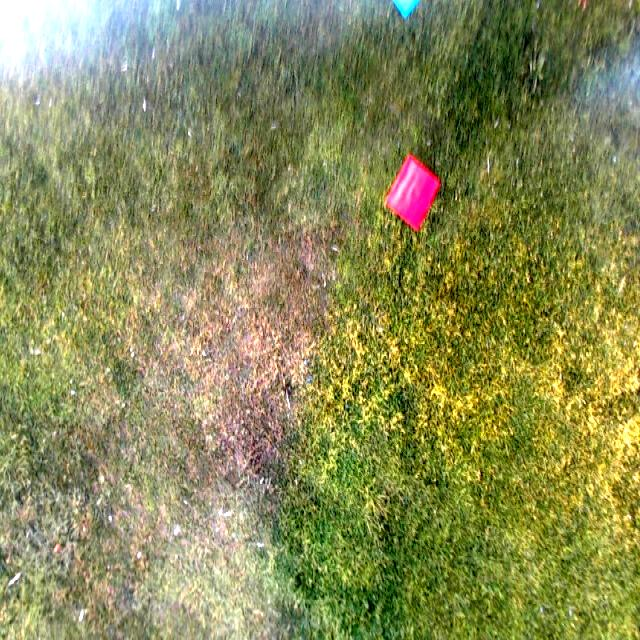red_square: (383, 152, 442, 233)
